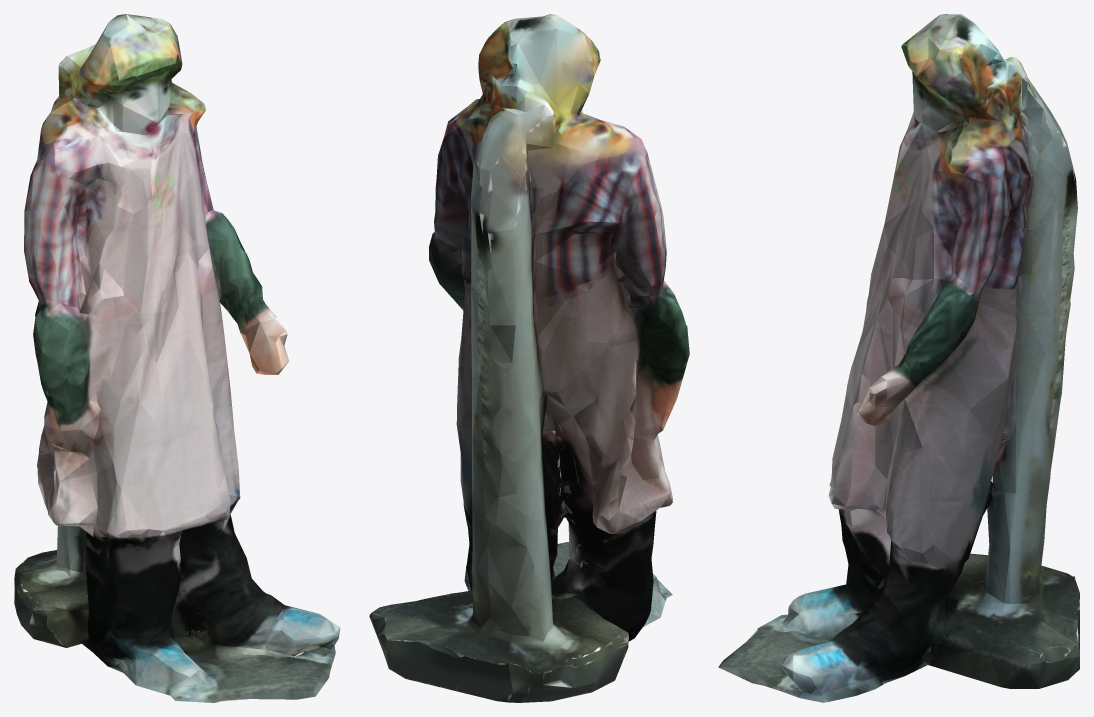
File: kakashi_14b.fbx
3 renders of one model, left to right at view 1: azimuth 30°, elevation 25°; view 2: azimuth 150°, elevation 25°; view 3: azimuth 270°, elevation 25°, orthographic. The views are drawn at different scales.
Parts seen in each view (by area): view 1: kakashi_14:Mesh; view 2: kakashi_14:Mesh; view 3: kakashi_14:Mesh.
Boxes of the visible parts, box(x1,y1,x2,y2) form: kakashi_14:Mesh: box(14, 14, 340, 702); kakashi_14:Mesh: box(369, 14, 689, 702); kakashi_14:Mesh: box(718, 14, 1079, 702).
Size of the model in its own units: 10.38 by 23.96 by 12.72.
Materials: 1 (1 with a texture image).
